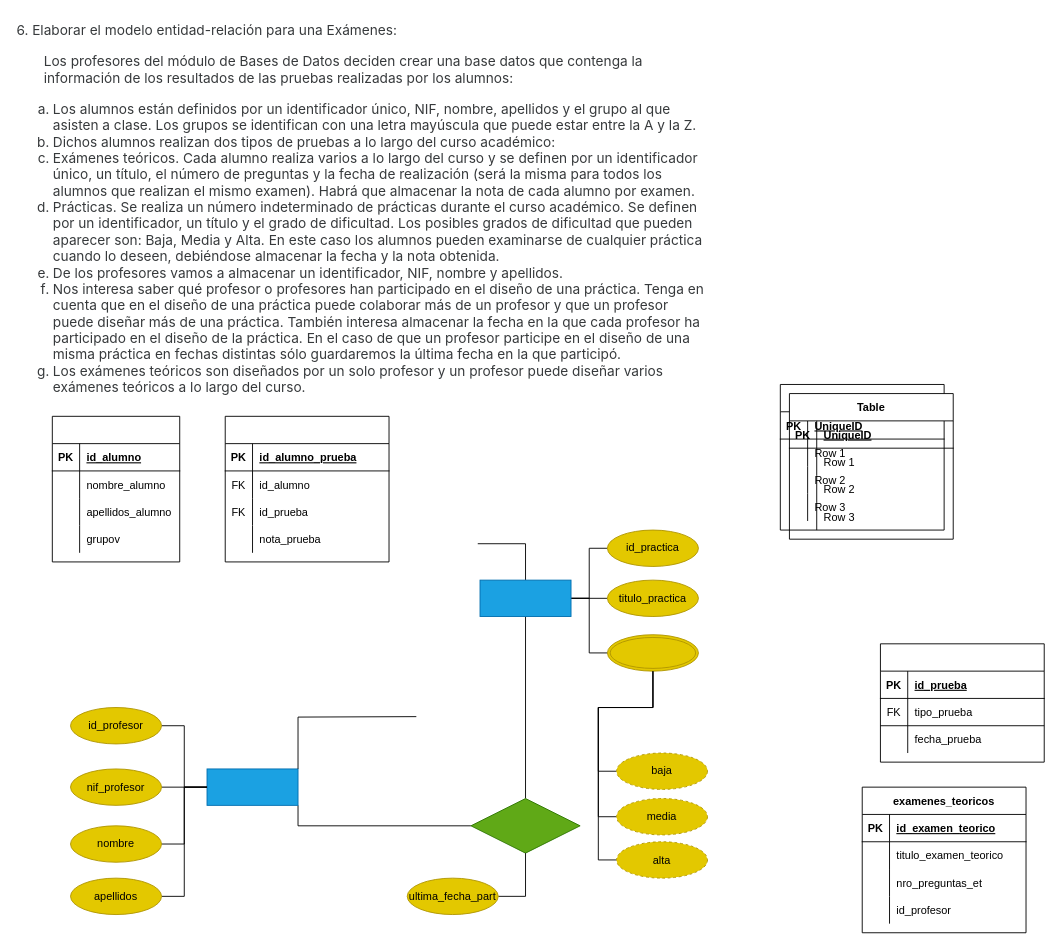
Image size: 1060x948. Some labels were removed from this diagram. Each missing label, with the box of its shape:
Alumnos: (51, 415, 180, 562)
Alumnos_pruebas: (224, 415, 389, 562)
dificultad: (607, 634, 698, 671)
participa: (470, 798, 580, 853)
practicas: (479, 579, 571, 617)
profesor: (206, 768, 298, 805)
Pruebas: (880, 643, 1044, 762)
